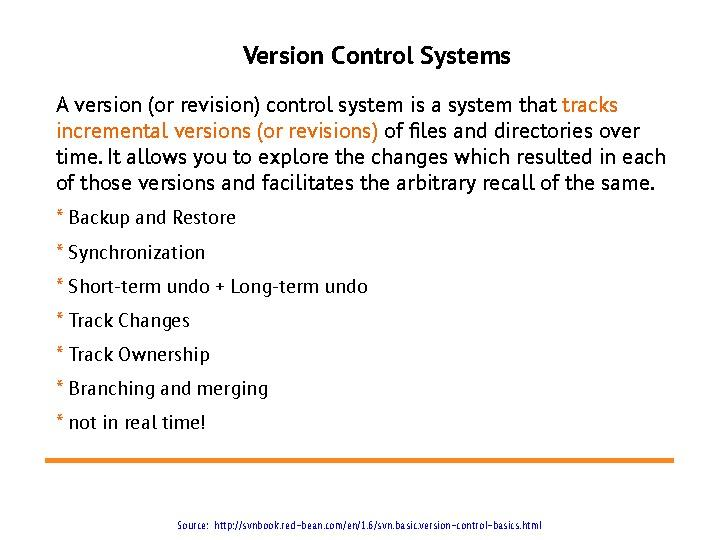paragraph: (44, 80, 668, 450)
title: (234, 29, 535, 83)
